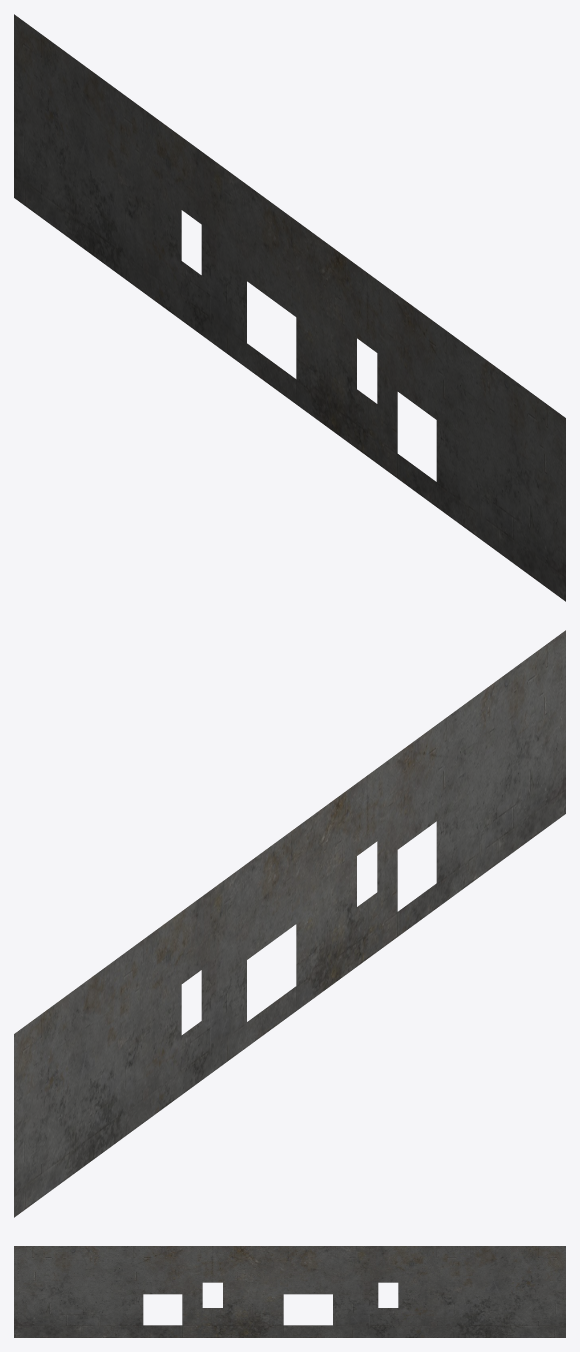
Rendered from Wall_02.FBX.
3 renders of one model, top to bottom at view 1: azimuth 30°, elevation 25°; view 2: azimuth 150°, elevation 25°; view 3: azimuth 270°, elevation 25°, orthographic. The views are drawn at different scales.
Visible parts, largest first — view 1: Wall_02; view 2: Wall_02; view 3: Wall_02.
Part boxes in pixels (<box>): Wall_02: <box>14,14,565,601</box>; Wall_02: <box>14,630,565,1217</box>; Wall_02: <box>14,1246,565,1337</box>.
Bounding box in the file's own units: 0.000255 × 511 × 2784.
